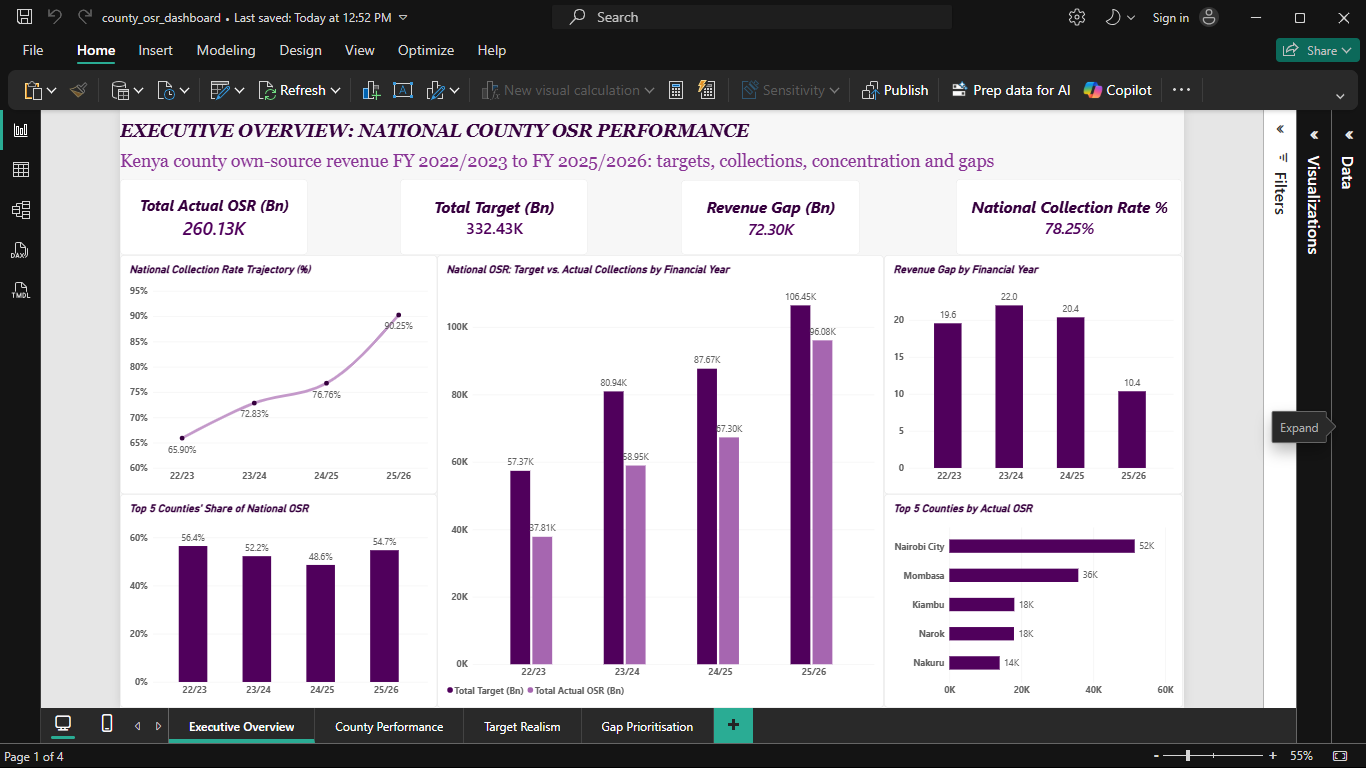

The dashboard page shown, as its layout file describes it:
{"tool":"powerbi","page":{"name":"Executive Overview","canvas":[1920,1080],"ordinal":0},"visuals":[{"type":"cardVisual","title":"Total Actual OSR ","fields":{"Data":["county_osr.Total Actual OSR (M)"]},"box":[0,124.6,339.5,137.3],"z":0},{"type":"cardVisual","fields":{"Data":["county_osr.Total Target (M)"]},"box":[505.8,125,339.5,137.3],"z":1000},{"type":"cardVisual","fields":{"Data":["county_osr.Collection Rate %"]},"box":[1509.8,124.6,408.2,137.3],"z":2000},{"type":"cardVisual","fields":{"Data":["county_osr.Revenue Gap (M)"]},"box":[1013.5,126.9,323.3,135.5],"z":3000},{"type":"clusteredColumnChart","title":"National OSR: Target vs. Actual Collections by Financial Year","fields":{"Category":["county_osr.financial_year"],"Y":["county_osr.Total Target (Bn)","county_osr.Total Actual OSR (Bn)"]},"box":[572.5,261.9,807.3,818.1],"z":4000},{"type":"clusteredColumnChart","title":"Revenue Gap by Financial Year","fields":{"Category":["county_osr.financial_year"],"Y":["county_osr.Revenue Gap (B)"]},"box":[1379.8,261.9,540,431.6],"z":5000},{"type":"lineChart","title":"National Collection Rate Trajectory (%)","fields":{"Category":["county_osr.financial_year"],"Y":["county_osr.Collection Rate %"]},"box":[0,261.9,572.5,431.6],"z":6000},{"type":"clusteredColumnChart","title":"Top 5 Counties'' Share of National OSR","fields":{"Category":["county_osr.financial_year"],"Y":["county_osr.Top 5 OSR Share"]},"box":[0,693.5,572.5,386.5],"z":7000},{"type":"clusteredBarChart","title":"Top 5 Counties by Actual OSR","fields":{"Category":["county_osr.county"],"Y":["county_osr.Total Actual OSR (Bn)"]},"box":[1379.8,693.5,540,386.5],"z":8000},{"type":"textbox","box":[0,0,1918,140.9],"z":9000}]}

Visuals, with their boxes on the page's 1920x1080 design canvas (x1, y1, x2, y2). These are canvas units, not pixel positions in the 1366x768 screenshot, which may show the page scaled, cropped or inside an application window:
"Total Actual OSR " cardVisual: locate(0, 125, 340, 262)
cardVisual - county_osr.Total Target (M): locate(506, 125, 845, 262)
cardVisual - county_osr.Collection Rate %: locate(1510, 125, 1918, 262)
cardVisual - county_osr.Revenue Gap (M): locate(1014, 127, 1337, 262)
"National OSR: Target vs. Actual Collections by Financial Year" clusteredColumnChart: locate(572, 262, 1380, 1080)
"Revenue Gap by Financial Year" clusteredColumnChart: locate(1380, 262, 1920, 694)
"National Collection Rate Trajectory (%)" lineChart: locate(0, 262, 572, 694)
"Top 5 Counties'' Share of National OSR" clusteredColumnChart: locate(0, 694, 572, 1080)
"Top 5 Counties by Actual OSR" clusteredBarChart: locate(1380, 694, 1920, 1080)
textbox: locate(0, 0, 1918, 141)
